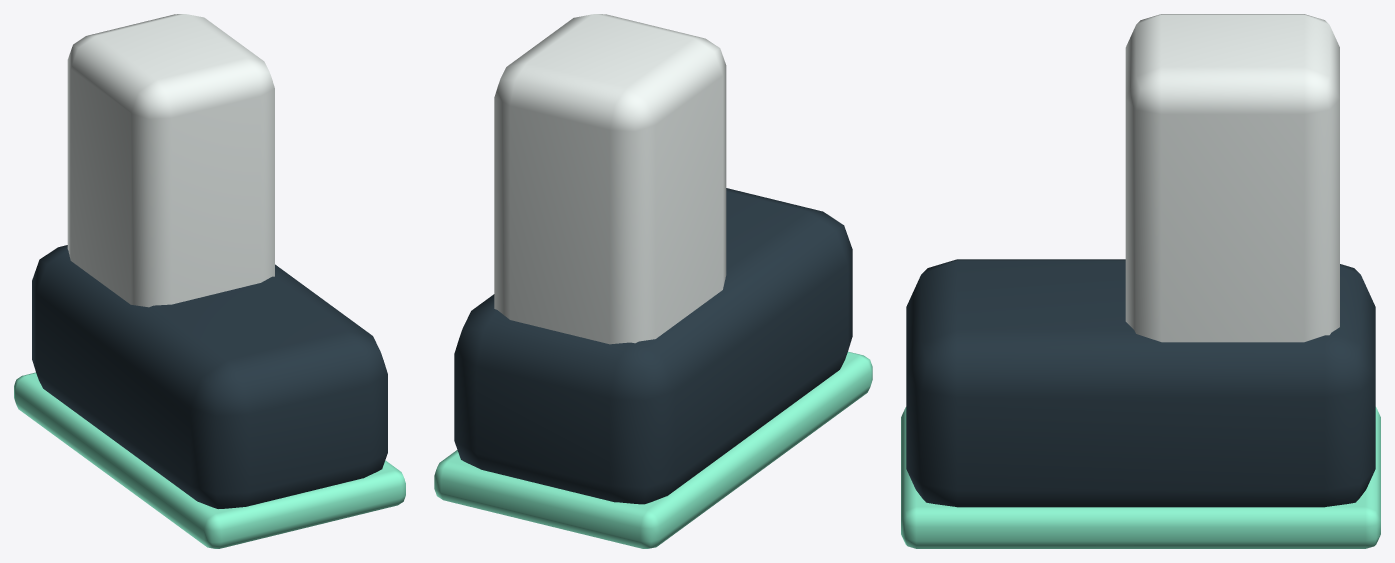
The model's file is rider_shin.glb.
3 views of the same model, side by side, from view 1: azimuth 30°, elevation 25°; view 2: azimuth 150°, elevation 25°; view 3: azimuth 270°, elevation 25° (orthographic). The views are drawn at different scales.
Parts seen in each view (by area): view 1: Sneaker, Sock, Sole; view 2: Sneaker, Sock, Sole; view 3: Sneaker, Sock, Sole.
Part boxes in pixels (x1,y1,x2,y2): Sneaker: (32,245,387,508); Sock: (67,14,274,307); Sole: (14,372,405,548); Sneaker: (454,188,852,504); Sock: (494,14,726,344); Sole: (434,351,872,548); Sneaker: (906,259,1375,507); Sock: (1125,14,1339,342); Sole: (901,407,1380,548).
Size of the model in its own units: 0.27 by 0.4925 by 0.47.
